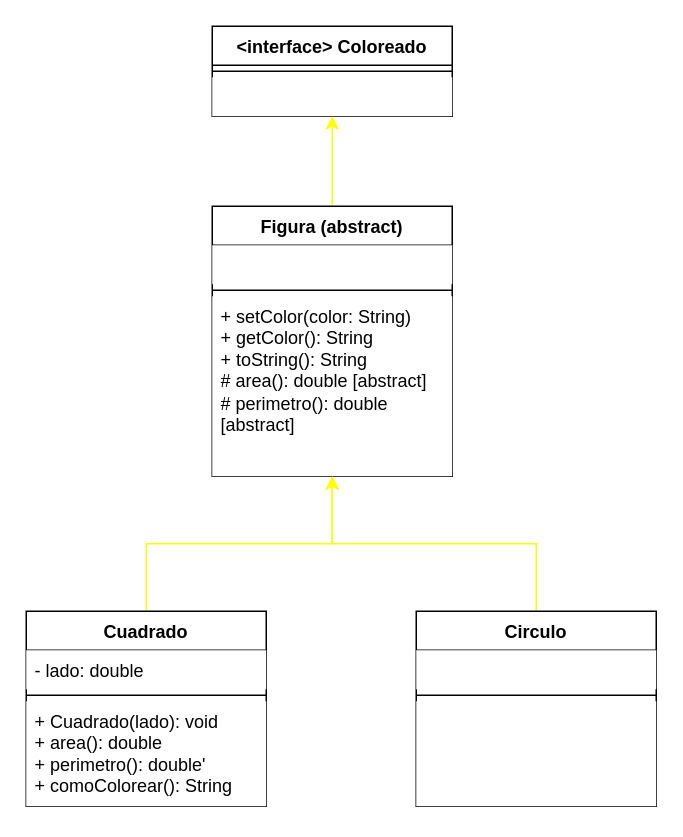
This 683x837 diagram has some shape labels left out. Here are the shapes that lost their labels. From the top down, the centre of each, then its label:
At (x=332, y=96): "+ comoColorear(): String".
At (x=332, y=264): "- color: String".
At (x=536, y=669): "- radio: double".
At (x=536, y=753): "+ Circulo(radio): void + area(): double + perimetro(): double".
